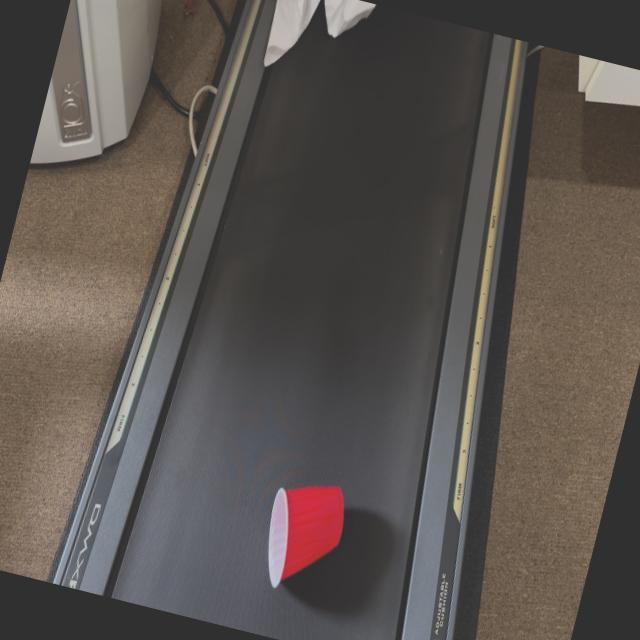Recycle: (253, 477, 352, 602), (256, 0, 377, 92)
